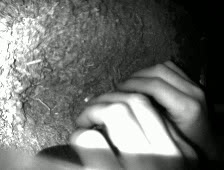corn: (82, 92, 97, 102)
